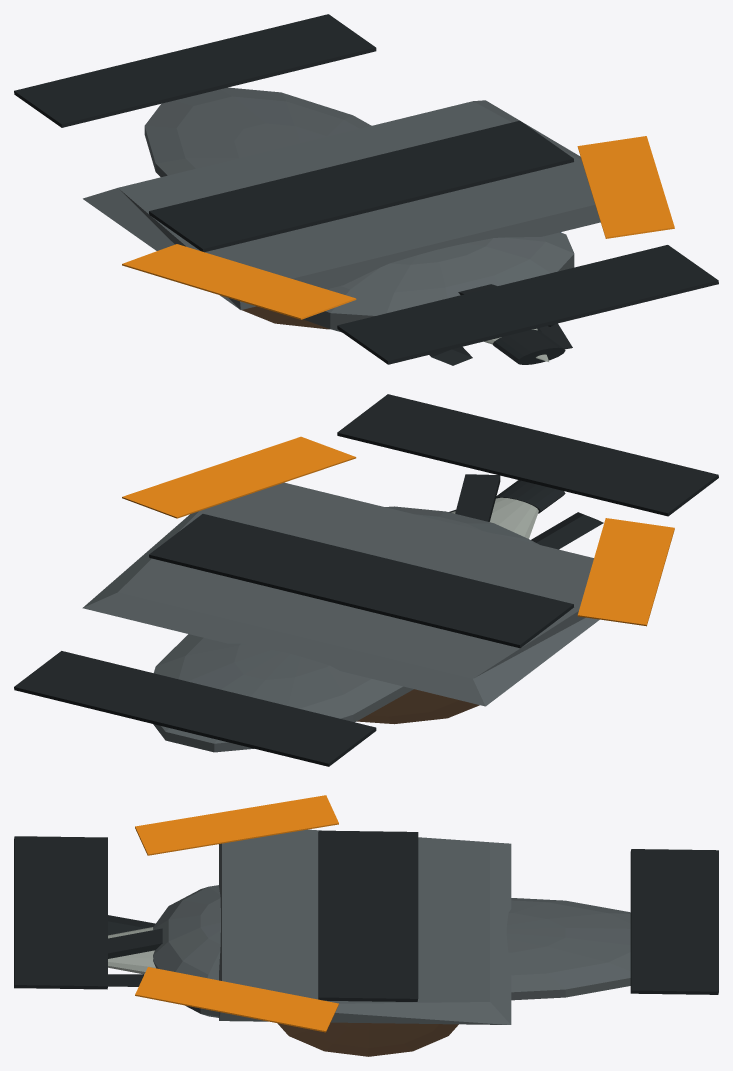
The model's file is armmole.dae.
The picture shows the model from 3 angles, top to bottom: view 1: azimuth 30°, elevation 25°; view 2: azimuth 150°, elevation 25°; view 3: azimuth 270°, elevation 25°; orthographic projection. The views are drawn at different scales.
Parts seen in each view (by area): view 1: armor_top, armor_plate_mid, armor_plate_front, armor_plate_rear, tail, snout, warning_mark_l, warning_mark_r, muzzle, dirt; view 2: armor_top, armor_plate_mid, armor_plate_front, armor_plate_rear, tail, warning_mark_r, warning_mark_l, dirt, drill_rib_a, drill, drill_rib_b, snout (+1 smaller); view 3: armor_top, armor_plate_mid, armor_plate_front, armor_plate_rear, tail, warning_mark_l, warning_mark_r, snout, dirt, drill_rib_a, drill, drill_rib_b (+1 smaller).
Part boxes in pixels (x1=…): armor_top: x1=83, y1=100, x2=600, y2=309; armor_plate_mid: x1=149, y1=120, x2=573, y2=252; armor_plate_front: x1=337, y1=245, x2=718, y2=364; armor_plate_rear: x1=14, y1=14, x2=376, y2=127; tail: x1=144, y1=87, x2=371, y2=176; snout: x1=303, y1=232, x2=574, y2=332; warning_mark_l: x1=122, y1=244, x2=356, y2=319; warning_mark_r: x1=577, y1=136, x2=674, y2=238; muzzle: x1=492, y1=329, x2=565, y2=364; dirt: x1=242, y1=306, x2=329, y2=329; armor_top: x1=82, y1=482, x2=599, y2=706; armor_plate_mid: x1=149, y1=514, x2=573, y2=648; armor_plate_front: x1=337, y1=394, x2=718, y2=516; armor_plate_rear: x1=14, y1=651, x2=376, y2=766; tail: x1=153, y1=634, x2=413, y2=752; warning_mark_r: x1=122, y1=436, x2=356, y2=518; warning_mark_l: x1=577, y1=518, x2=674, y2=626; dirt: x1=357, y1=689, x2=479, y2=724; drill_rib_a: x1=455, y1=474, x2=500, y2=521; drill: x1=451, y1=497, x2=538, y2=538; drill_rib_b: x1=531, y1=512, x2=603, y2=549; snout: x1=385, y1=506, x2=539, y2=544; armor_top: x1=219, y1=829, x2=511, y2=1024; armor_plate_mid: x1=318, y1=830, x2=418, y2=1001; armor_plate_front: x1=14, y1=836, x2=107, y2=989; armor_plate_rear: x1=630, y1=849, x2=718, y2=994; tail: x1=506, y1=898, x2=630, y2=1000; warning_mark_l: x1=135, y1=795, x2=338, y2=855; warning_mark_r: x1=135, y1=967, x2=338, y2=1032; snout: x1=153, y1=885, x2=220, y2=1017; dirt: x1=277, y1=1022, x2=458, y2=1056; drill_rib_a: x1=108, y1=928, x2=162, y2=958; drill: x1=108, y1=927, x2=155, y2=974; drill_rib_b: x1=108, y1=915, x2=155, y2=935.
Size of the model in its own units: 50.07 by 9.44 by 63.18.
